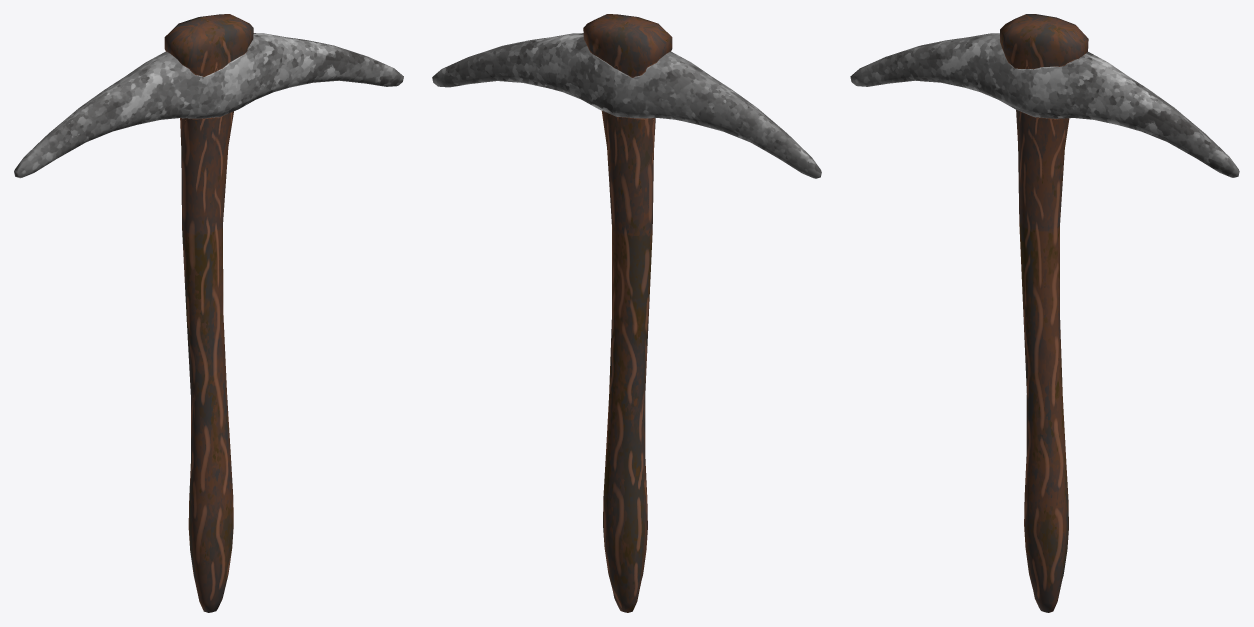
File: Pickaxe_Cvl_16-11.fbx
3 views of the same model, side by side, from view 1: azimuth 30°, elevation 25°; view 2: azimuth 150°, elevation 25°; view 3: azimuth 330°, elevation 25° (orthographic).
Visible parts, largest first — view 1: Cube.004; view 2: Cube.004; view 3: Cube.004.
Part boxes in pixels (x1=…): Cube.004: x1=14, y1=14, x2=403, y2=612; Cube.004: x1=432, y1=14, x2=821, y2=612; Cube.004: x1=850, y1=14, x2=1239, y2=612.
Bounding box in the file's own units: 663 × 961 × 83.21.
Materials: 1 (1 with a texture image).
